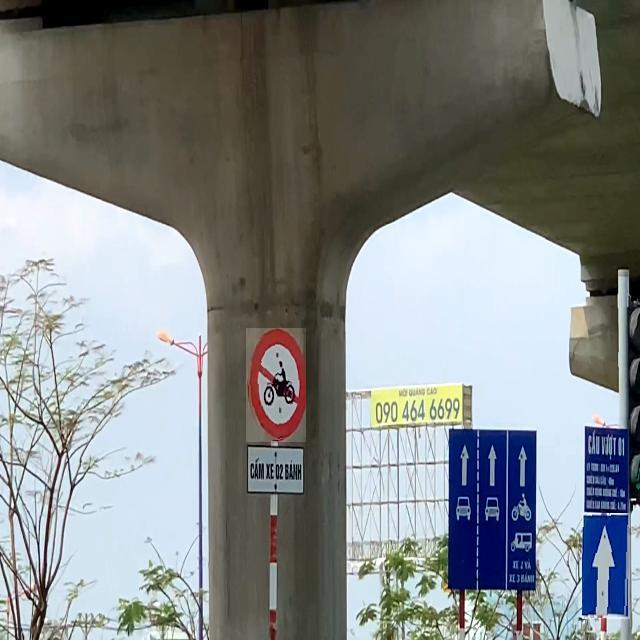P-104: (246, 328, 306, 442)
R-407a: (582, 513, 630, 619)
